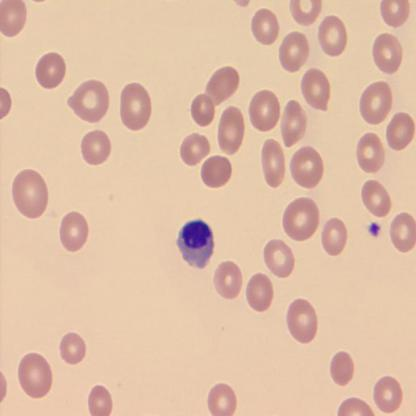NRC: (175, 218, 215, 270)
